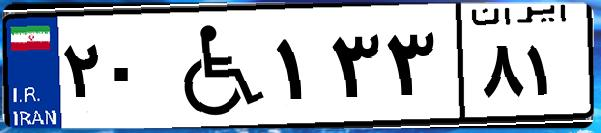0: (110, 28, 158, 98)
1: (270, 28, 330, 110), (525, 38, 570, 115)
2: (57, 26, 110, 100)
3: (385, 28, 445, 110), (330, 28, 385, 110)
8: (475, 38, 525, 113)
ژ (معلولین و جانبازان): (158, 12, 270, 120)
